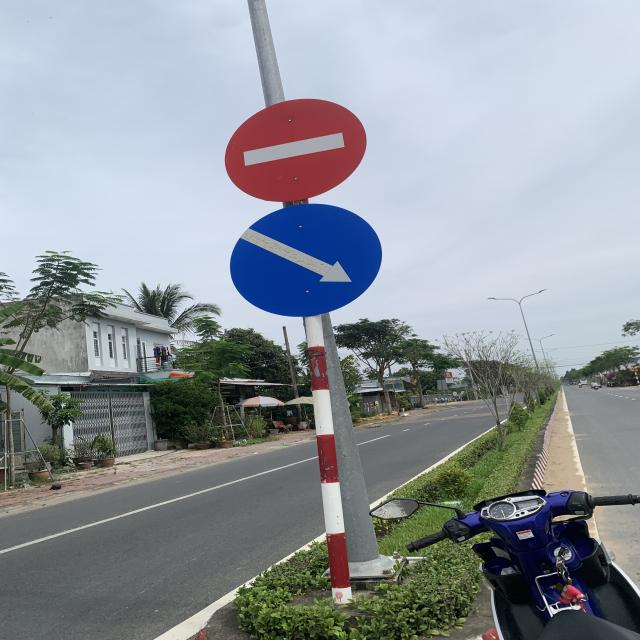Cam_Di_Nguoc_Chieu: (223, 97, 369, 202)
Chi_Huong_Di_Phai: (230, 203, 384, 315)
